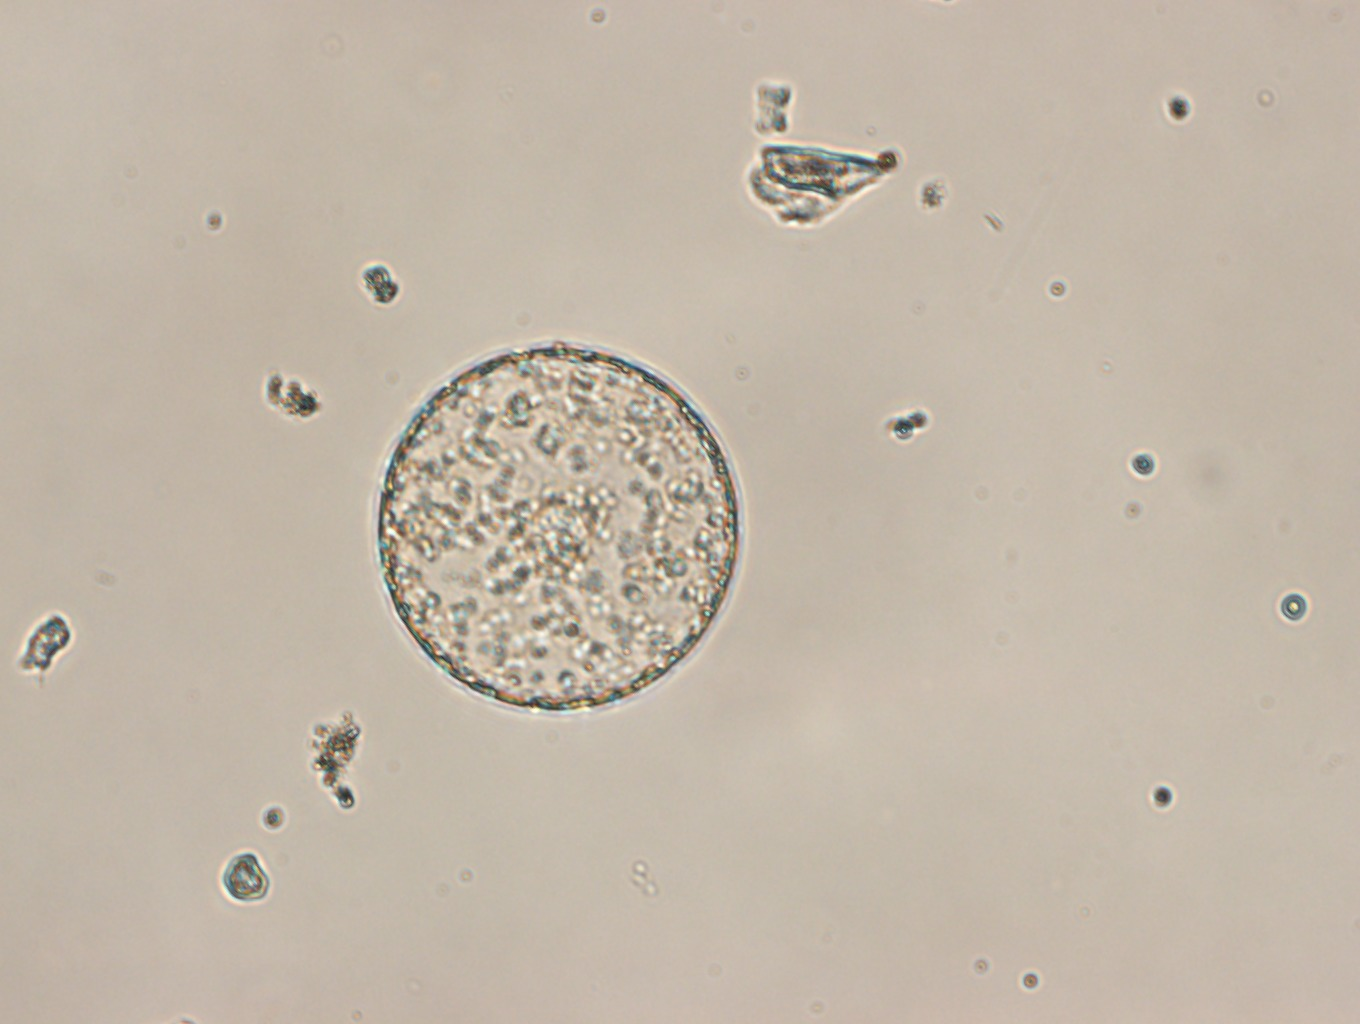coscinodiscus: (374, 339, 743, 716)
